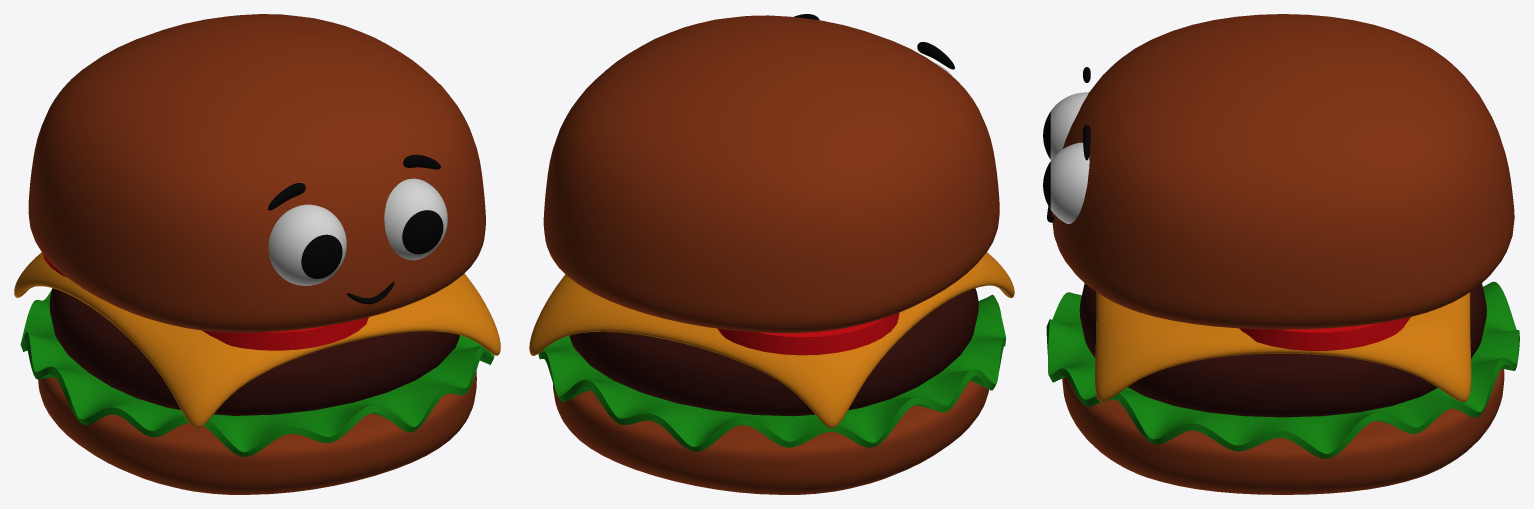
Rendered from burger.obj.
3 views of the same model, side by side, from view 1: azimuth 30°, elevation 25°; view 2: azimuth 150°, elevation 25°; view 3: azimuth 270°, elevation 25° (orthographic).
Parts seen in each view (by area): view 1: Cube.011, Cube.009, Cube.010, Куб.070, Окружность.006, Куб.069, Окружность.007; view 2: Cube.011, Cube.009, Cube.010, Окружность.006, Куб.070, Окружность.007, Куб.069; view 3: Cube.011, Cube.009, Окружность.006, Cube.010, Куб.070, Куб.069, Окружность.007.
Part boxes in pixels (x1,y1,x2,y2): Cube.011: [28, 14, 485, 332]; Cube.009: [38, 371, 476, 494]; Cube.010: [49, 288, 459, 415]; Куб.070: [14, 252, 500, 428]; Окружность.006: [20, 289, 494, 456]; Куб.069: [268, 154, 447, 304]; Окружность.007: [42, 253, 368, 350]; Cube.011: [543, 15, 999, 333]; Cube.009: [553, 381, 988, 494]; Cube.010: [569, 288, 978, 416]; Окружность.006: [538, 294, 1006, 451]; Куб.070: [529, 252, 1014, 428]; Окружность.007: [717, 313, 899, 355]; Куб.069: [794, 14, 954, 76]; Cube.011: [1052, 14, 1514, 329]; Cube.009: [1062, 369, 1504, 494]; Окружность.006: [1046, 281, 1519, 458]; Cube.010: [1079, 283, 1486, 417]; Куб.070: [1095, 292, 1471, 402]; Куб.069: [1043, 67, 1090, 223]; Окружность.007: [1239, 317, 1410, 350].
Size of the model in its own units: 0.1272 by 0.113 by 0.1282.
